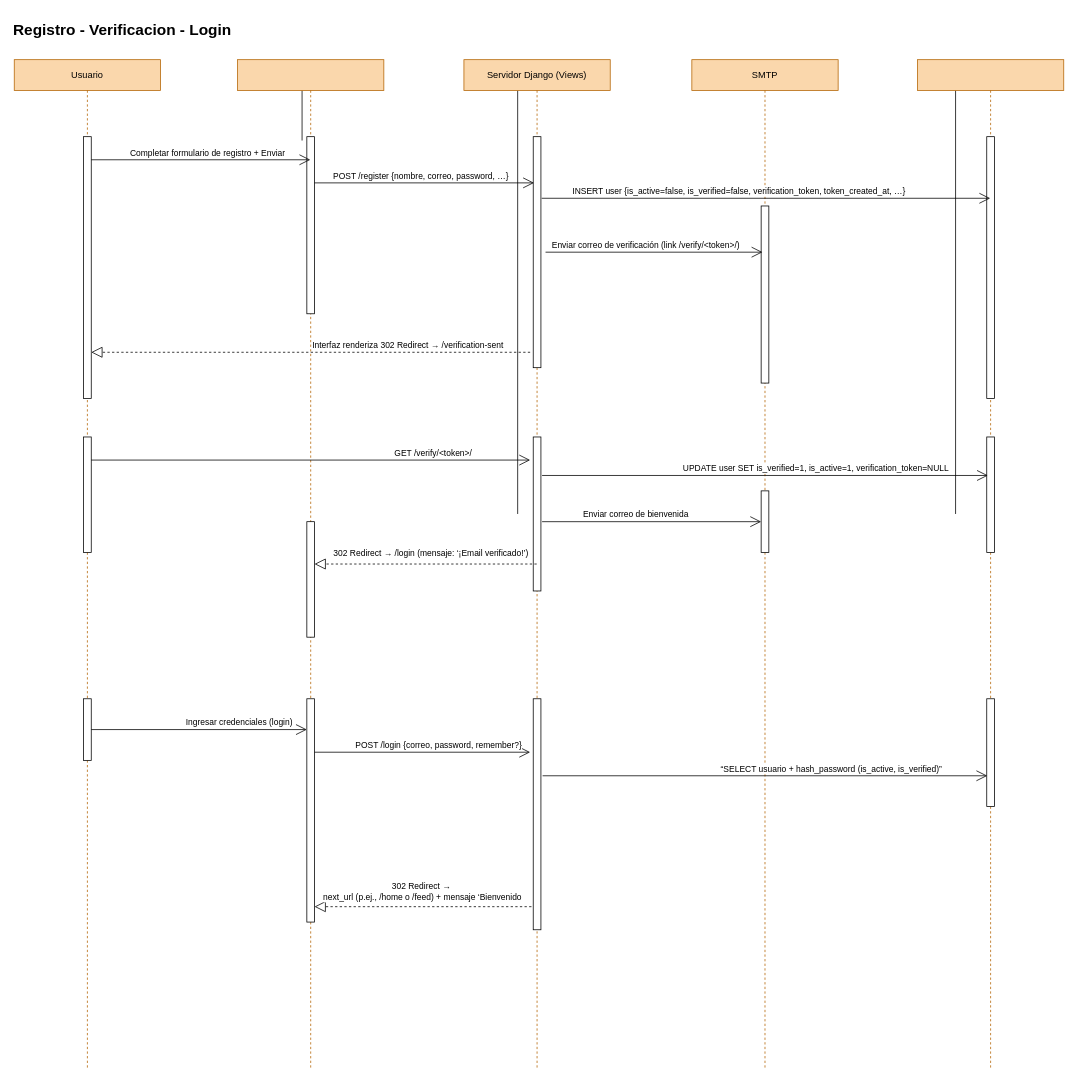
The diagram is 1077 pixels wide and 1082 high, and some of its shapes have lost their labels. Here are the shapes that lost their labels. From the top down, the box of each, then its label:
(237, 59, 384, 1068): Interfaz Web/App
(917, 59, 1064, 1068): BD MySQL
